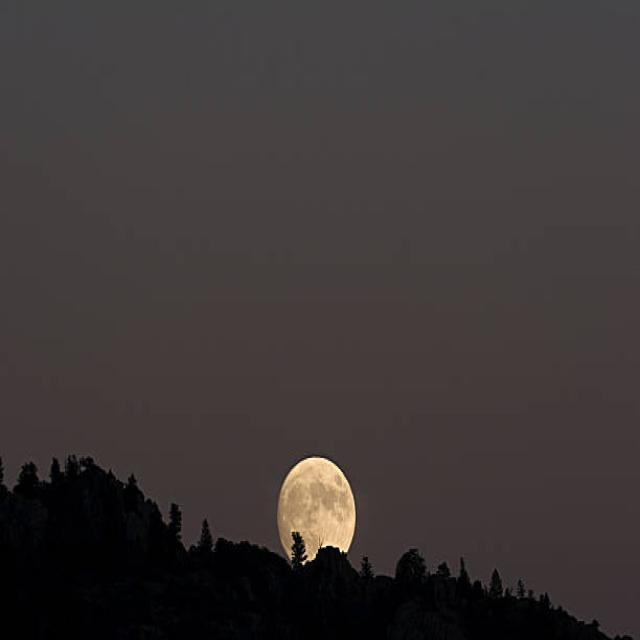moon: (276, 458, 356, 571)
